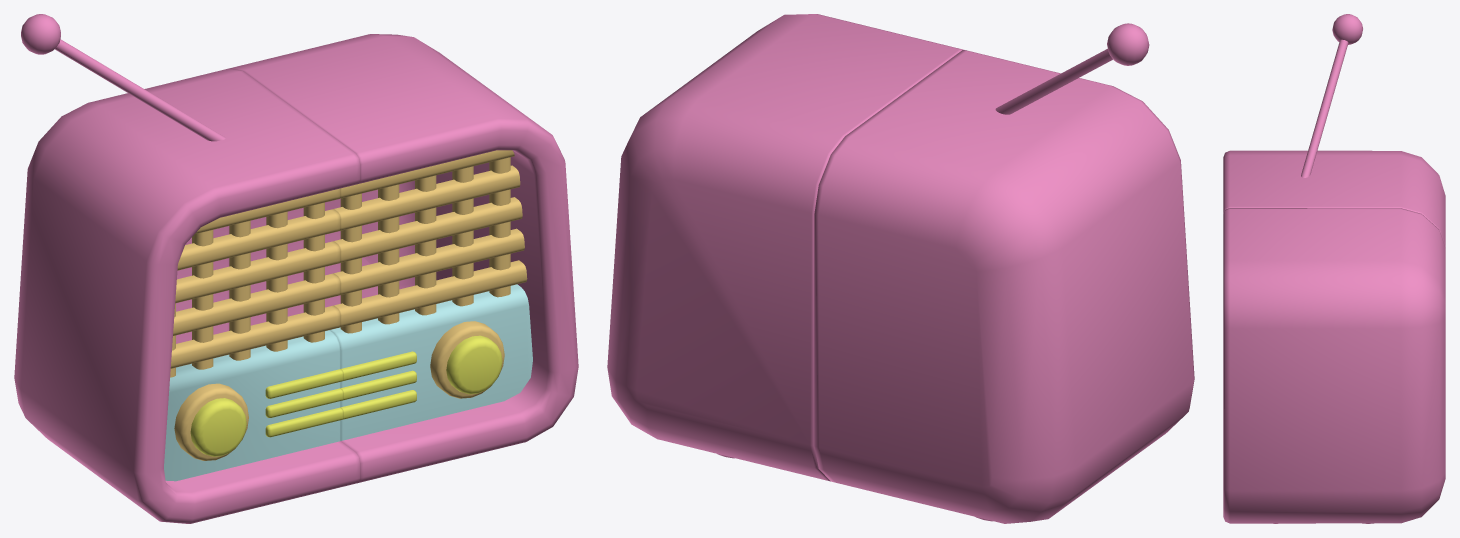
Rendered from SM_Radio_01a.fbx.
3 views of the same model, side by side, from view 1: azimuth 30°, elevation 25°; view 2: azimuth 150°, elevation 25°; view 3: azimuth 270°, elevation 25° (orthographic). The views are drawn at different scales.
Parts seen in each view (by area): view 1: Radio_01, Radio_02; view 2: Radio_01, Radio_02; view 3: Radio_02, Radio_01.
Boxes of the visible parts, x1,y1,x2,y2 form: Radio_01: [14, 14, 359, 523]; Radio_02: [230, 34, 578, 482]; Radio_01: [814, 23, 1194, 523]; Radio_02: [607, 14, 965, 481]; Radio_02: [1223, 208, 1445, 523]; Radio_01: [1223, 14, 1445, 247].
Bounding box in the file's own units: 34.77 × 33.79 × 18.55.
